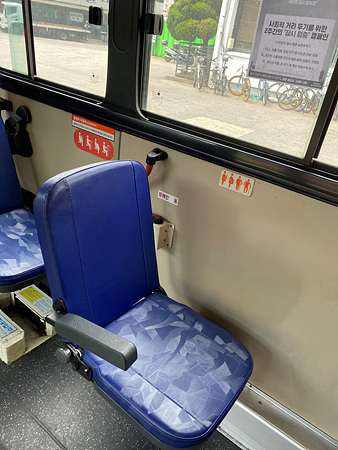seat: (38, 160, 254, 439)
